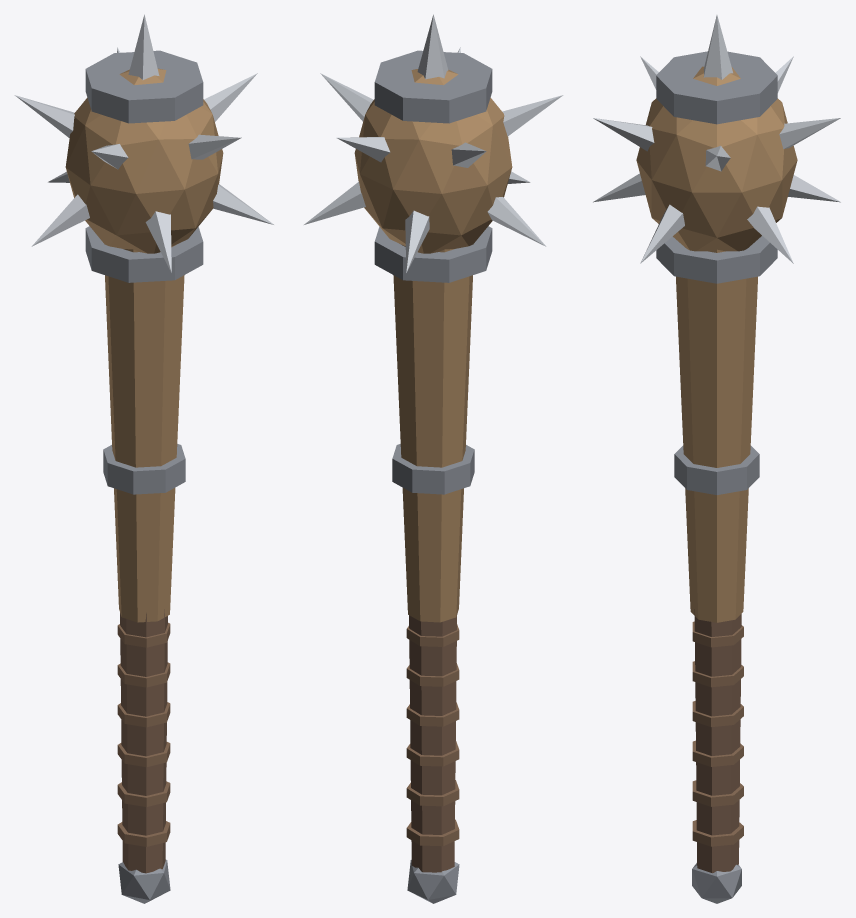
File: Weapon_SpikedClub.glb
3 views of the same model, side by side, from view 1: azimuth 30°, elevation 25°; view 2: azimuth 150°, elevation 25°; view 3: azimuth 270°, elevation 25° (orthographic).
Visible parts, largest first — view 1: SpikedClub; view 2: SpikedClub; view 3: SpikedClub.
Boxes of the visible parts, x1=… form: SpikedClub: x1=14, y1=14, x2=273, y2=903; SpikedClub: x1=304, y1=14, x2=563, y2=903; SpikedClub: x1=593, y1=15, x2=840, y2=903.
Bounding box in the file's own units: 0.3578 × 1.34 × 0.3403.
